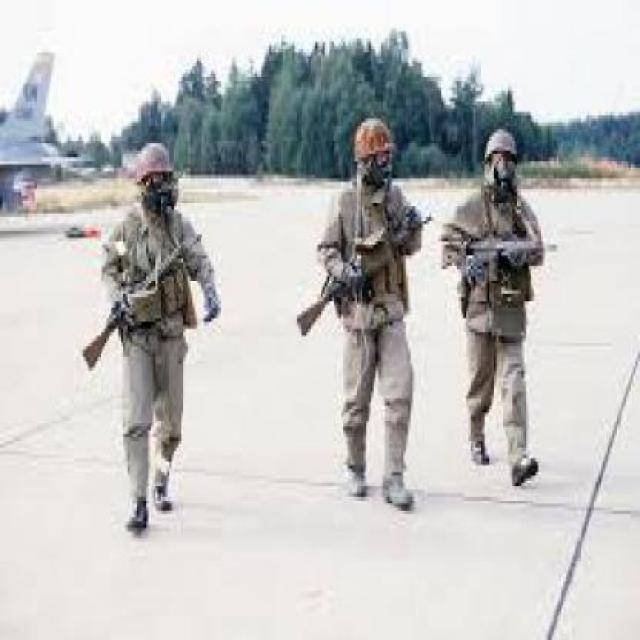MIL_Pax: (98, 143, 219, 532), (316, 117, 424, 512), (441, 130, 545, 484)
